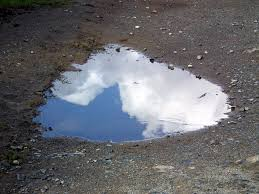pothole: (18, 48, 244, 160)
